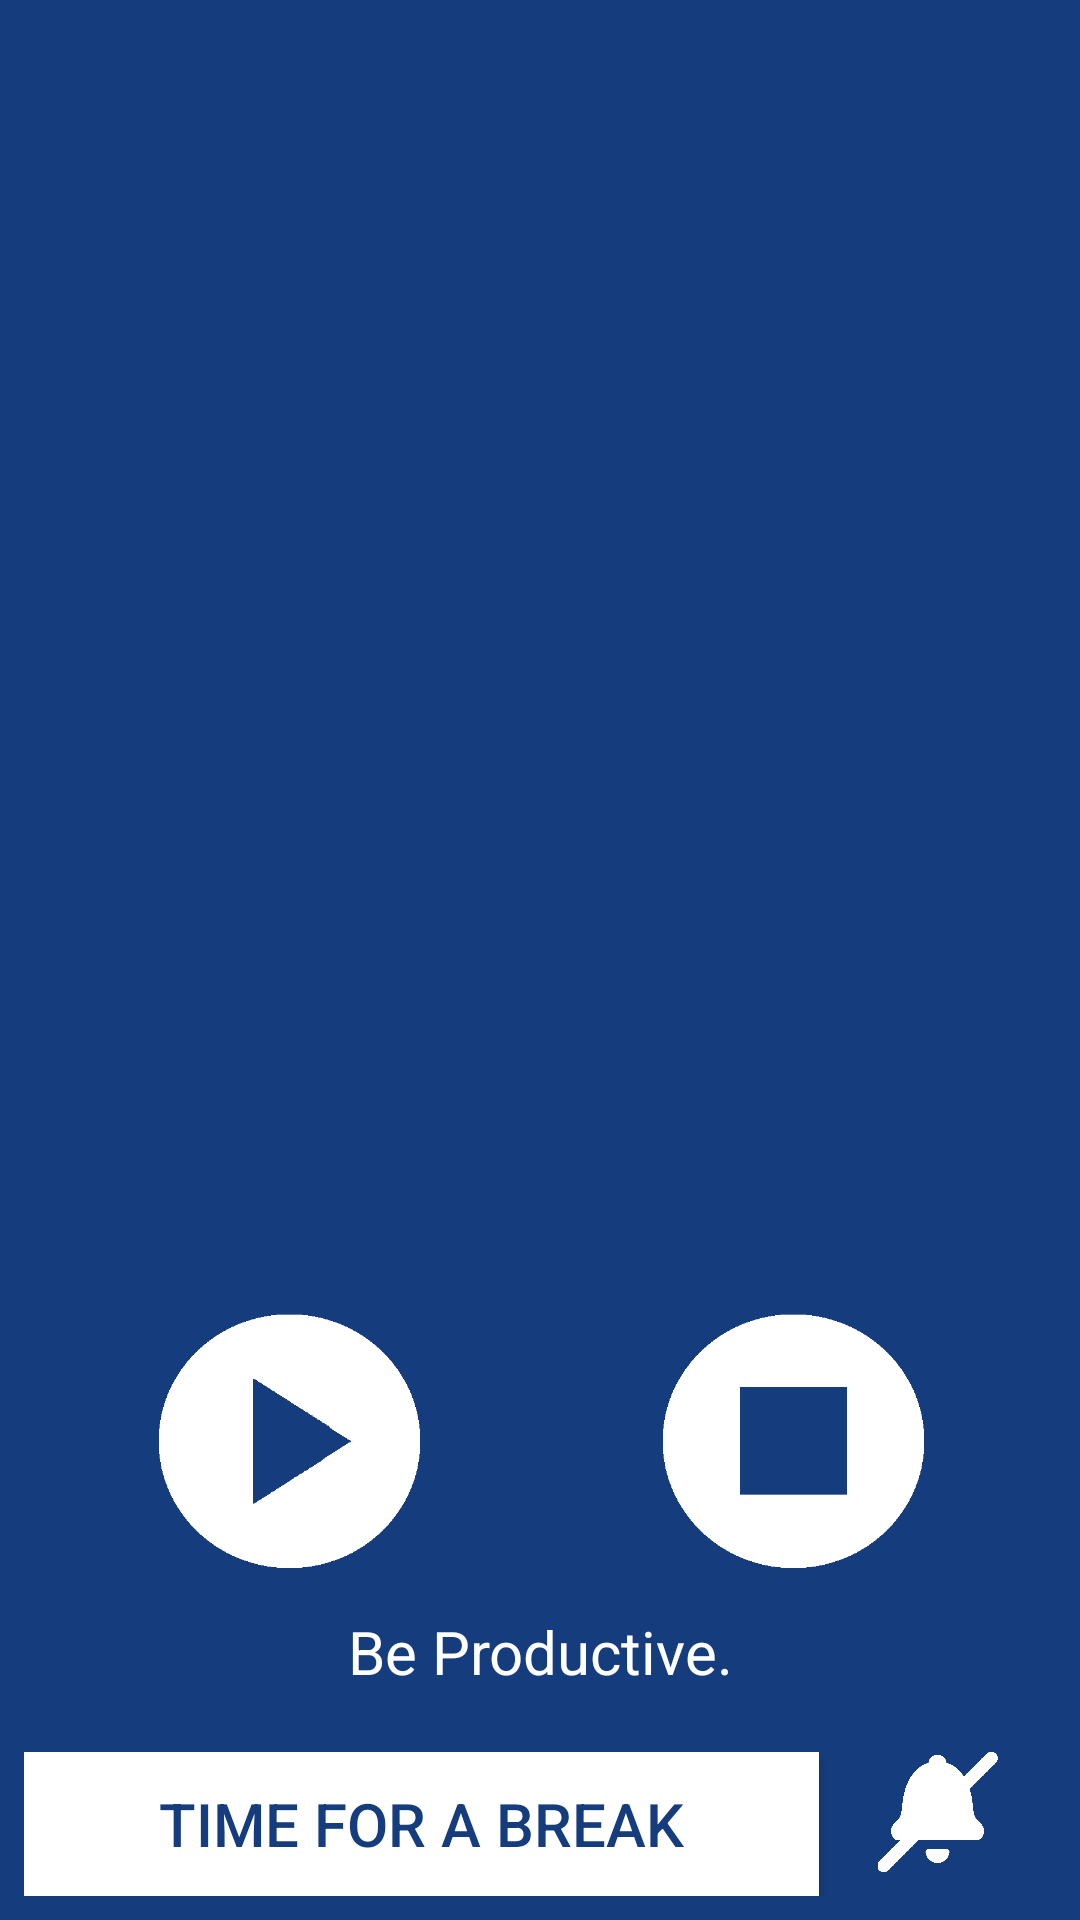

Locate icon controls on the screen. Image size 1080 × 1920, boxes as Rect(x1, y1, x2, y2).
alarmoff: Rect(878, 1752, 998, 1872)
Start: Rect(159, 1314, 420, 1568)
